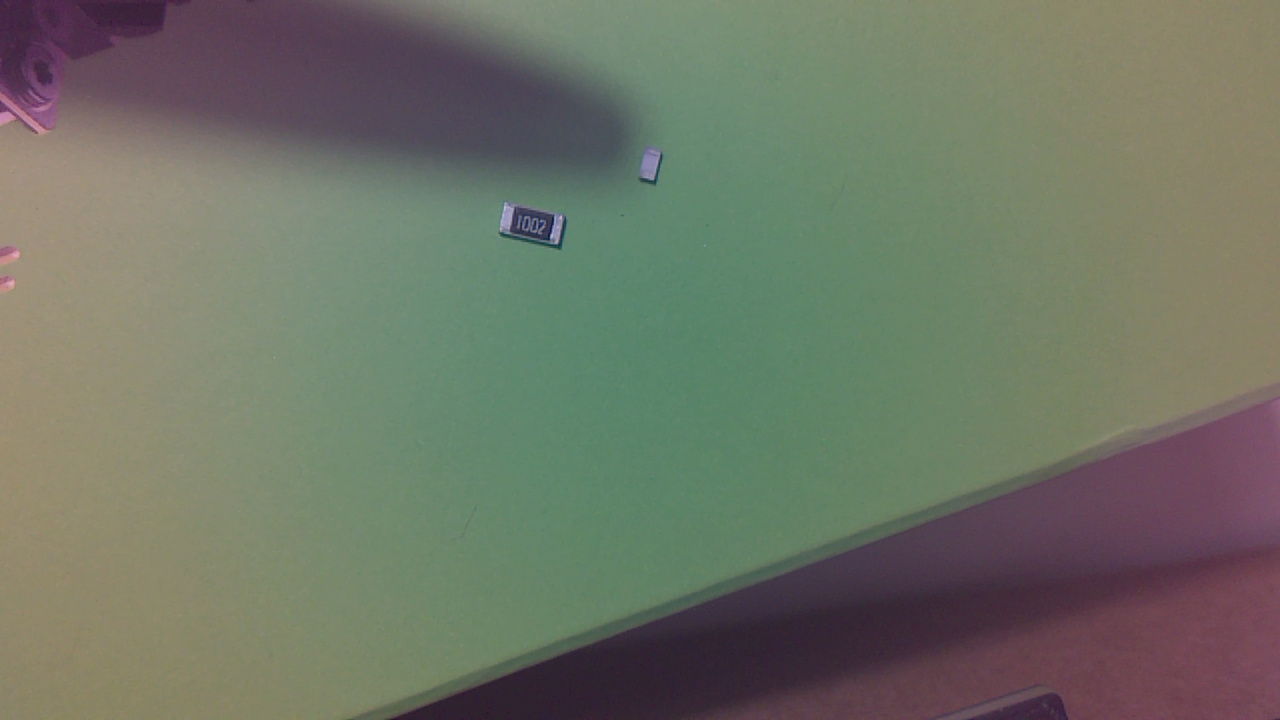Resistor: (505, 207, 573, 255)
